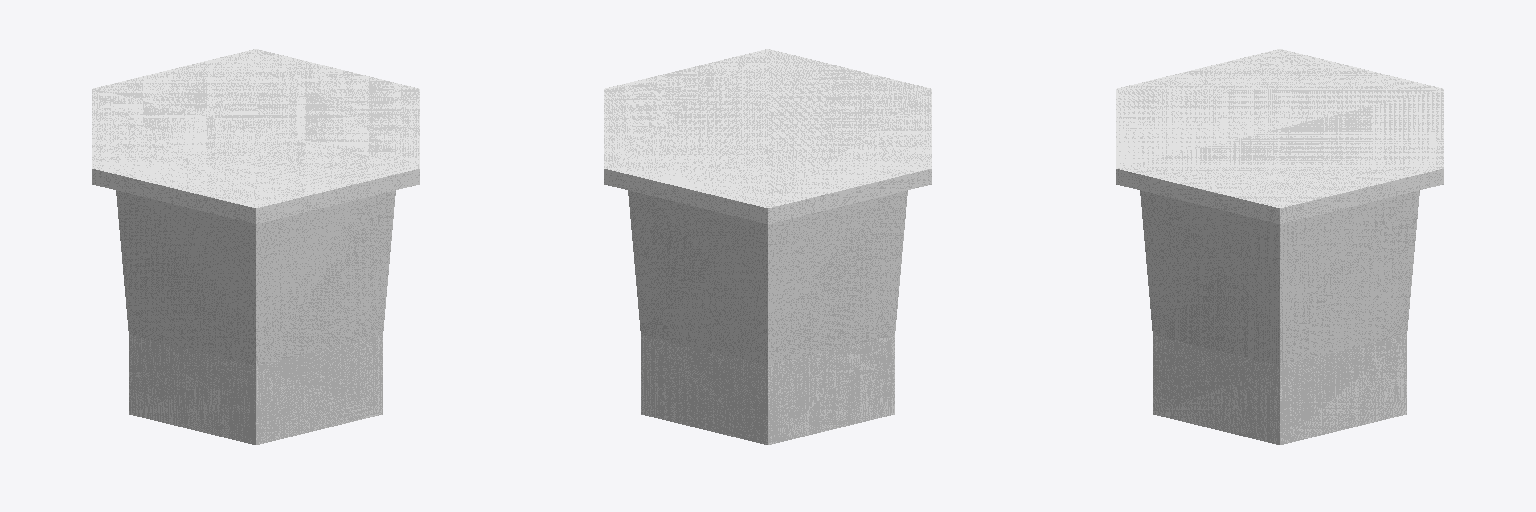
File: ReagentBottle_Top_Highlight.obj
3 renders of one model, left to right at view 1: azimuth 30°, elevation 25°; view 2: azimuth 150°, elevation 25°; view 3: azimuth 270°, elevation 25°, orthographic.
Visible parts, largest first — view 1: Mesh1 Model; view 2: Mesh1 Model; view 3: Mesh1 Model.
Boxes of the visible parts, box(x1,y1,x2,y2) form: Mesh1 Model: box(92, 49, 419, 444); Mesh1 Model: box(604, 49, 931, 444); Mesh1 Model: box(1116, 49, 1443, 444).
Size of the model in its own units: 0.0448 by 0.0333 by 0.0388.